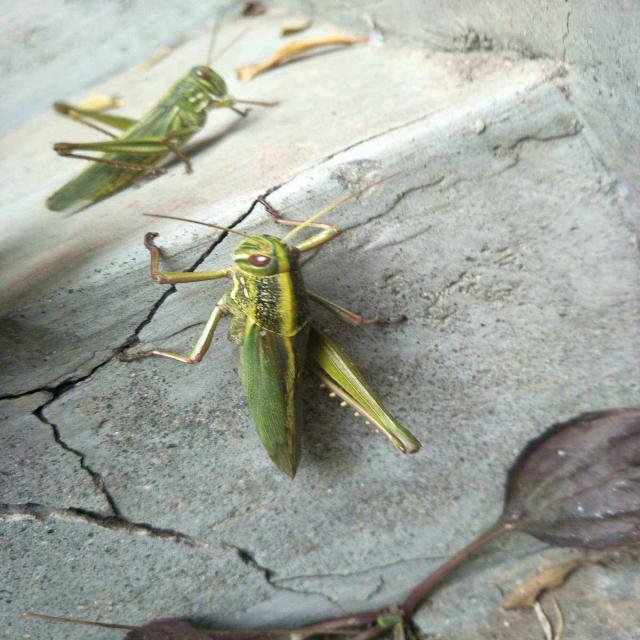ZhaMeng: (130, 194, 432, 484), (43, 31, 244, 224)
